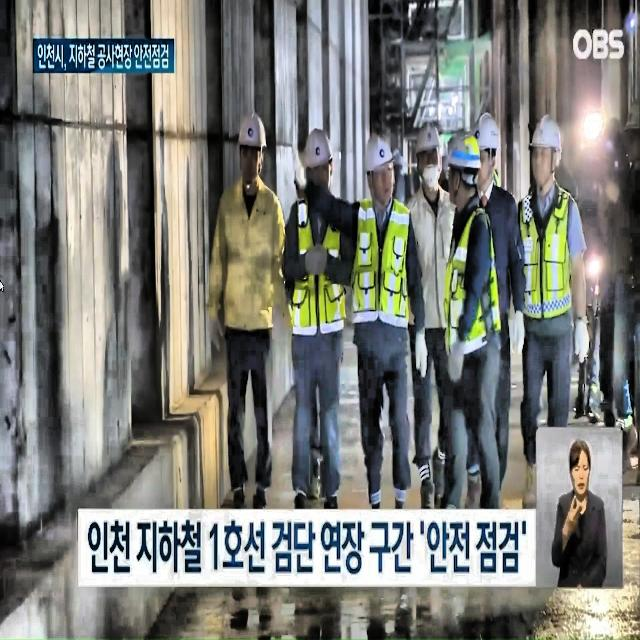safety_helmet: (444, 129, 484, 174), (528, 111, 564, 157), (302, 126, 334, 172), (363, 133, 394, 176), (237, 109, 268, 151), (471, 111, 502, 151), (414, 120, 442, 154), (623, 101, 640, 130), (394, 150, 403, 163)
safety_jacket: (443, 209, 502, 353), (288, 197, 347, 337), (348, 198, 411, 329), (516, 190, 576, 322)
